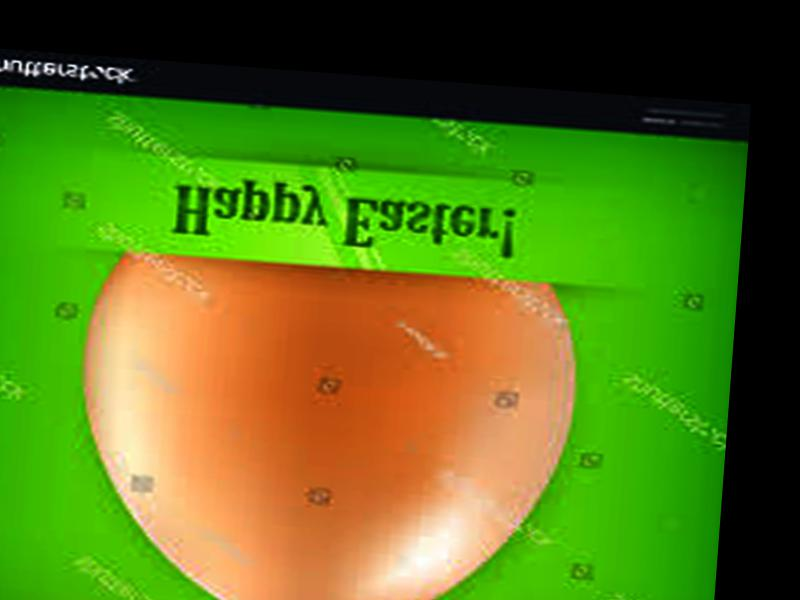Eggs: (66, 249, 582, 600)
